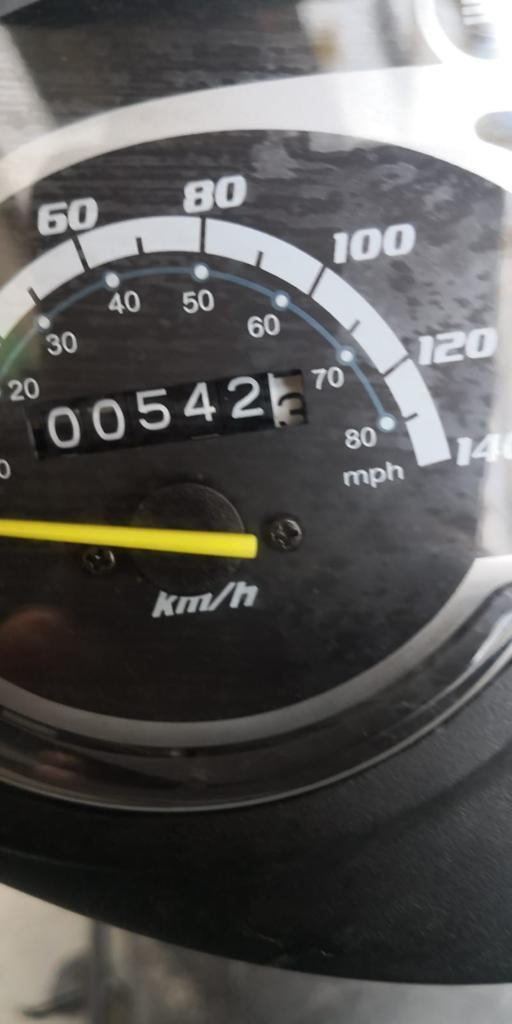0: (45, 404, 81, 449), (90, 398, 127, 441), (22, 377, 39, 400)
2: (226, 374, 265, 420)
3: (275, 390, 309, 429)
4: (181, 379, 218, 423)
5: (134, 386, 172, 432)
odometer: (18, 364, 312, 464)
